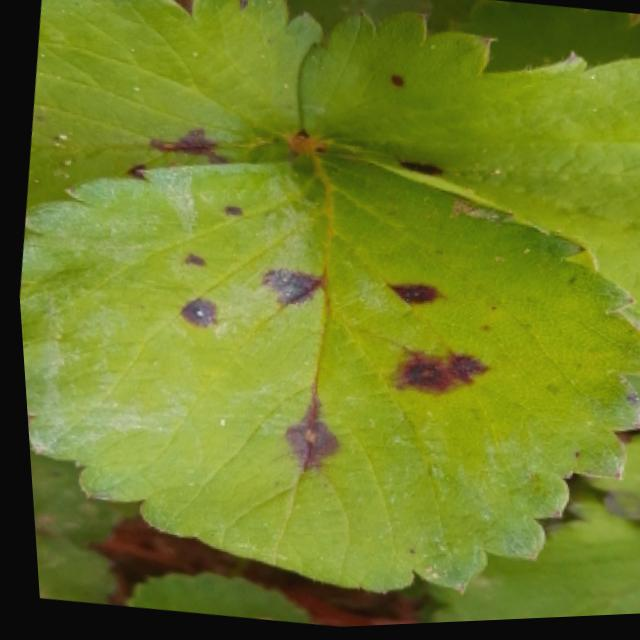Leaf Spot: (16, 144, 640, 600), (296, 9, 640, 339), (24, 0, 323, 205), (28, 527, 112, 605)
